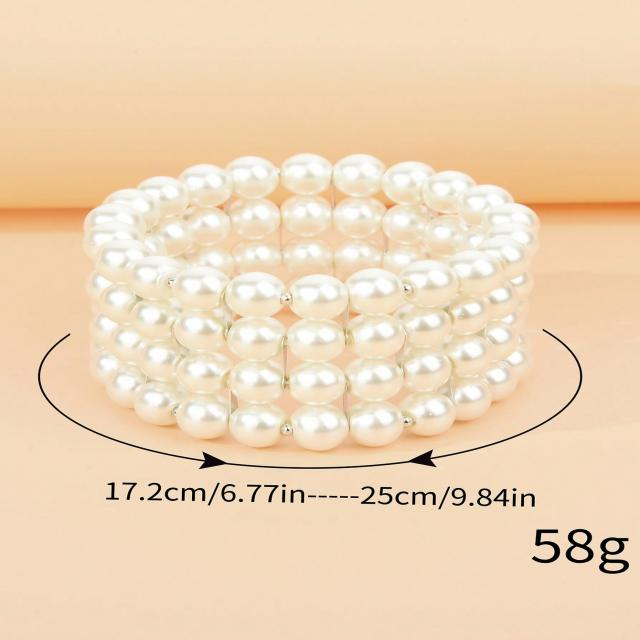bracelet: (29, 90, 610, 470)
